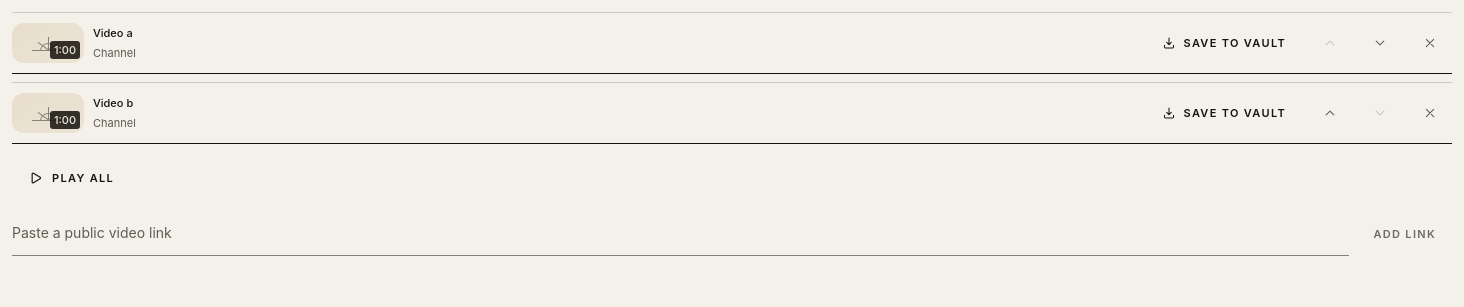
collection detail: watch vs save, mixed sources › reload on a stale reorder conflict shows the winner rather than losing it
The image size is (1464, 307).
Click the button named "Move Video b up": x=1330, y=113 [1308, 91, 1352, 135]
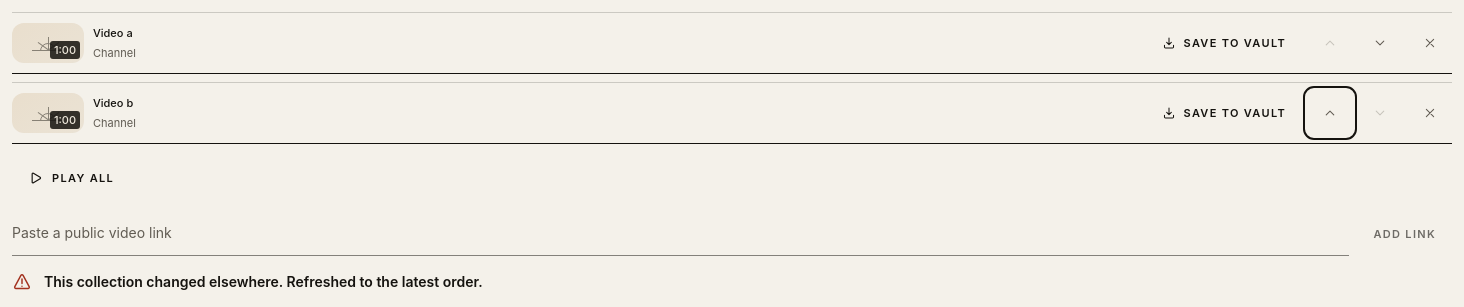
Expected: the text "changed elsewhere" is shown, [44, 273, 483, 290]
